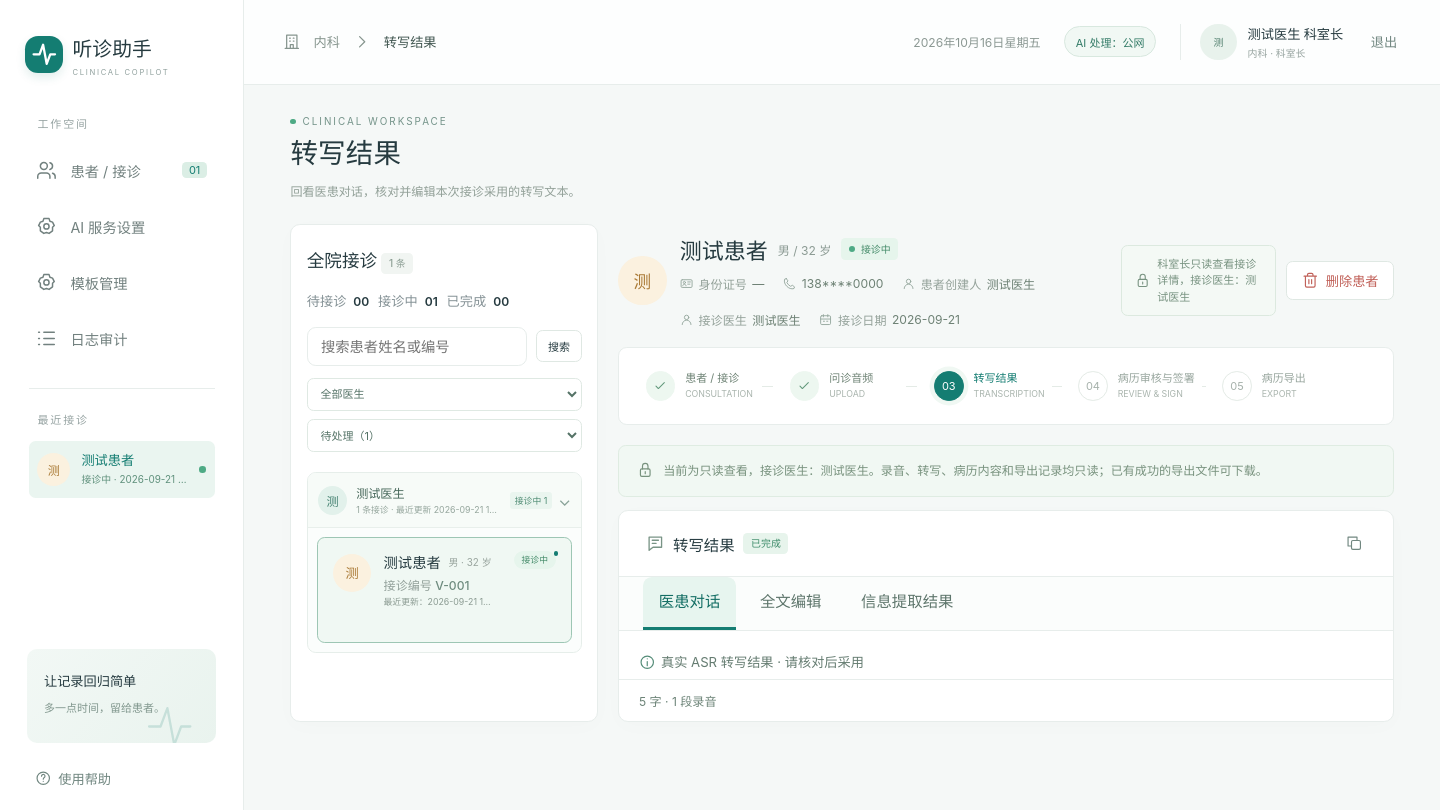
Scenario: department head read-only visit view › deletes after the second confirmation, refreshes the queue, and clears the deleted patient details
The image size is (1440, 810).
Click the button with class "danger" at (1340, 280), box [1286,261,1394,300]
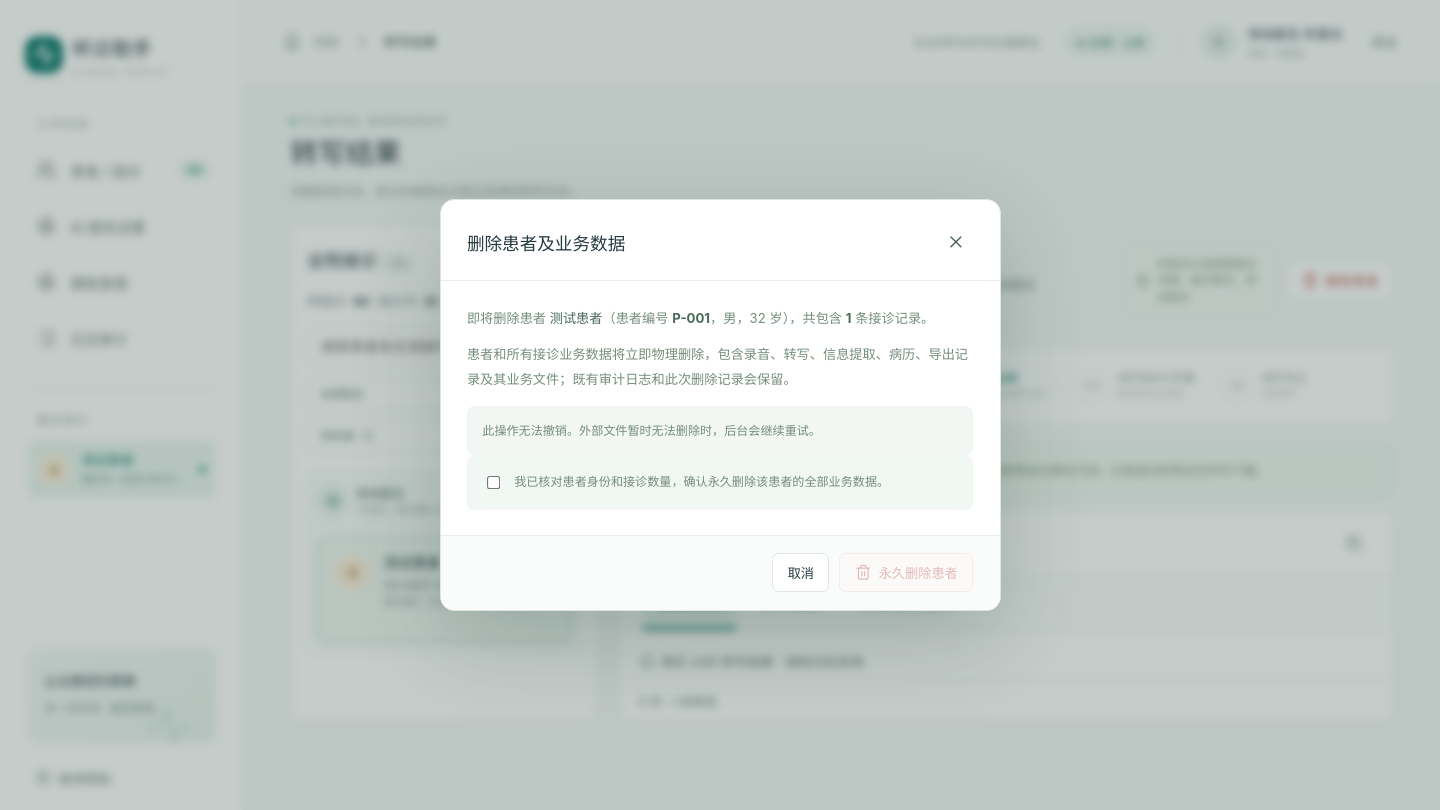
Click the checkbox labelled "我已核对患者身份和接诊数量，确认永久删除该患者的全部业务数据。" at (494, 483), box [487,476,501,490]
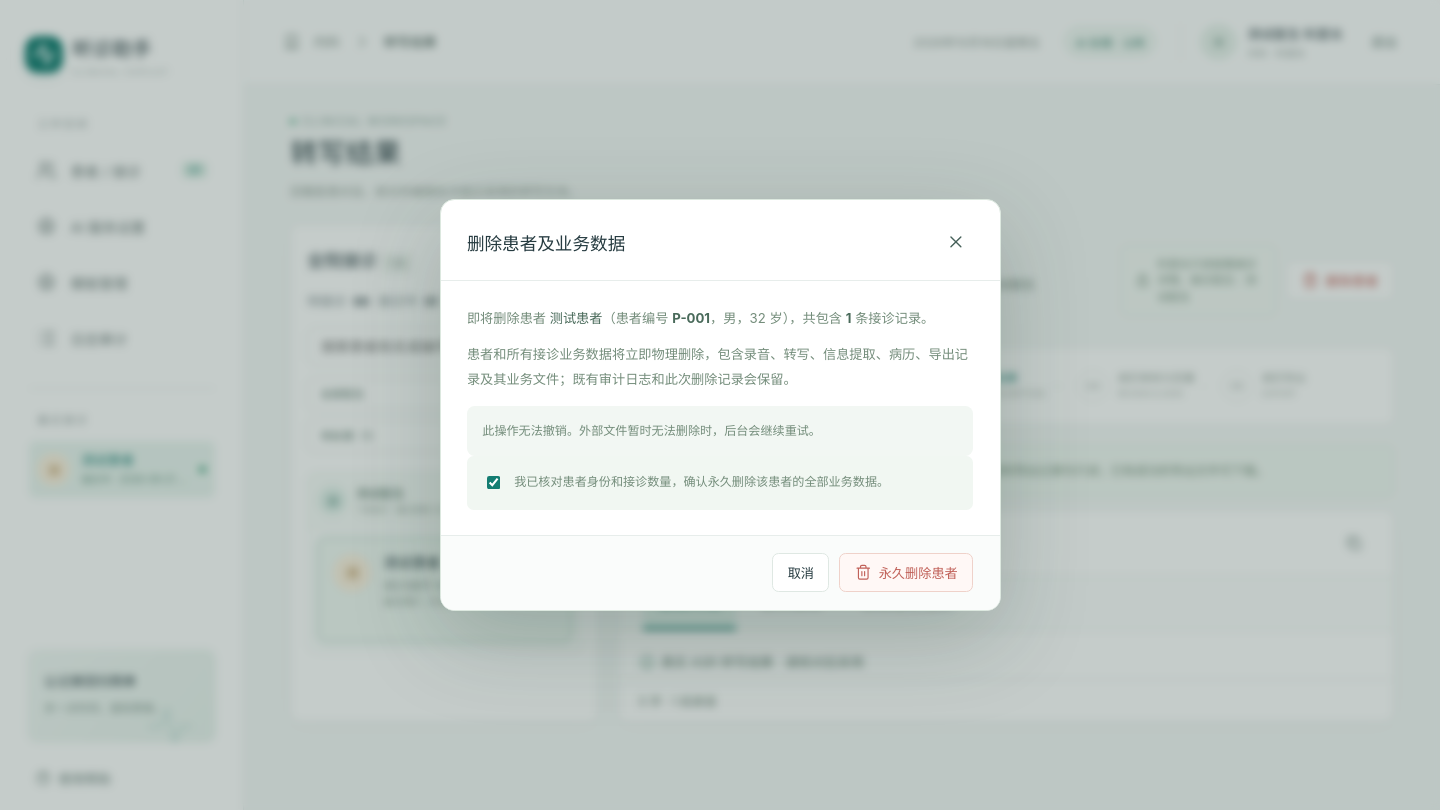
Click the button with class "danger" showing "永久删除患者" at (906, 573), box [839,553,973,592]
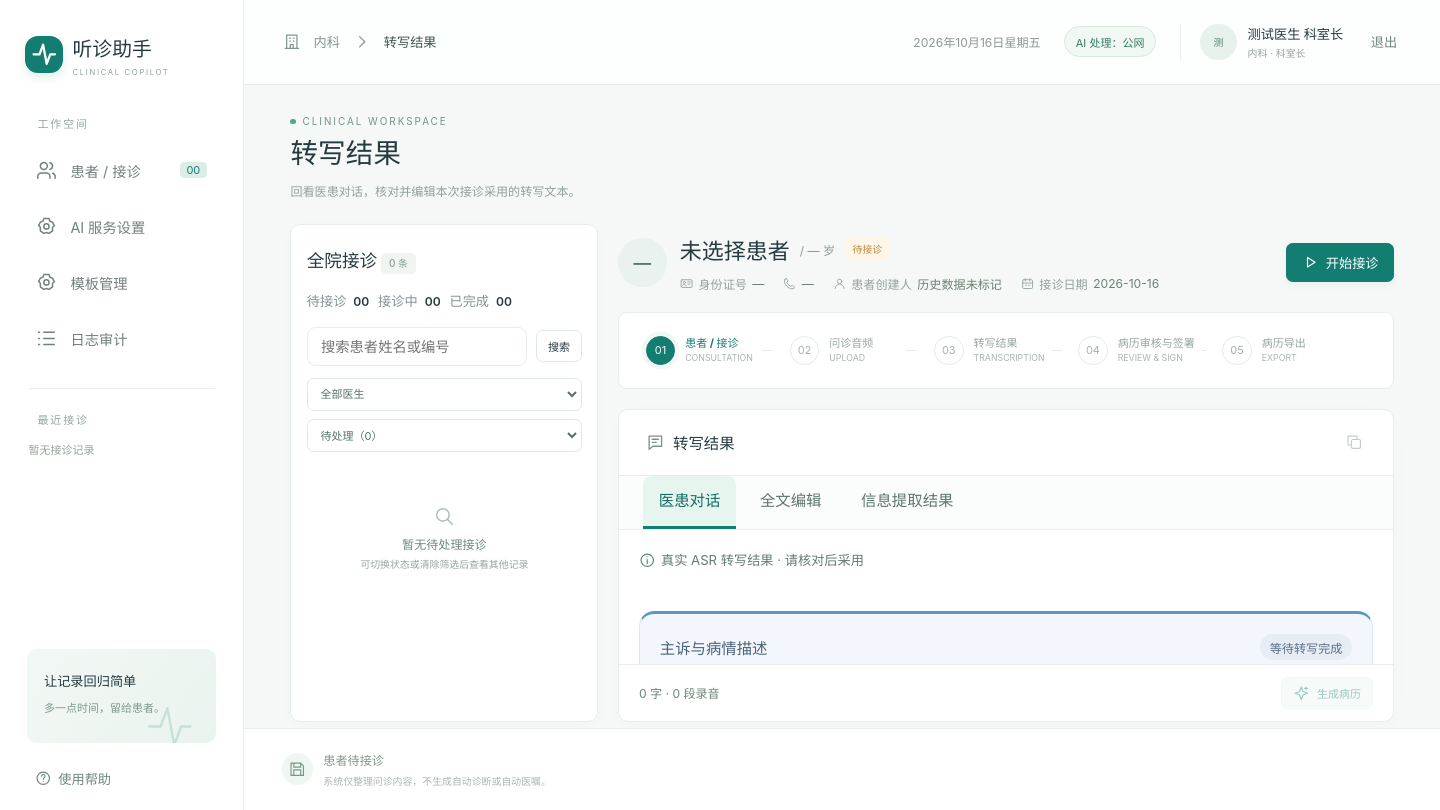
Check: the heading "未选择患者 / — 岁 待接诊" is shown, box [680,238,890,264]
Check: the text "测试患者" is gone
